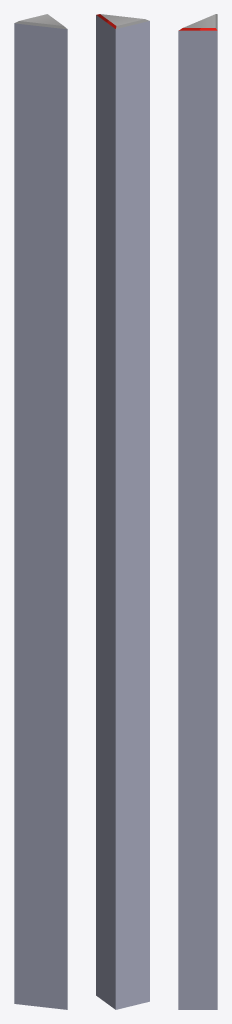
File: gElement_Triangle.fbx
3 renders of one model, left to right at view 1: azimuth 30°, elevation 25°; view 2: azimuth 210°, elevation 25°; view 3: azimuth 270°, elevation 25°, orthographic.
Visible parts, largest first — view 1: gElement_Triangle; view 2: gElement_Triangle; view 3: gElement_Triangle.
Part boxes in pixels (x1,y1,x2,y2): gElement_Triangle: (14,14,67,1009); gElement_Triangle: (96,14,149,1009); gElement_Triangle: (178,14,217,1009).
Bounding box in the file's own units: 100 × 2760 × 100.
